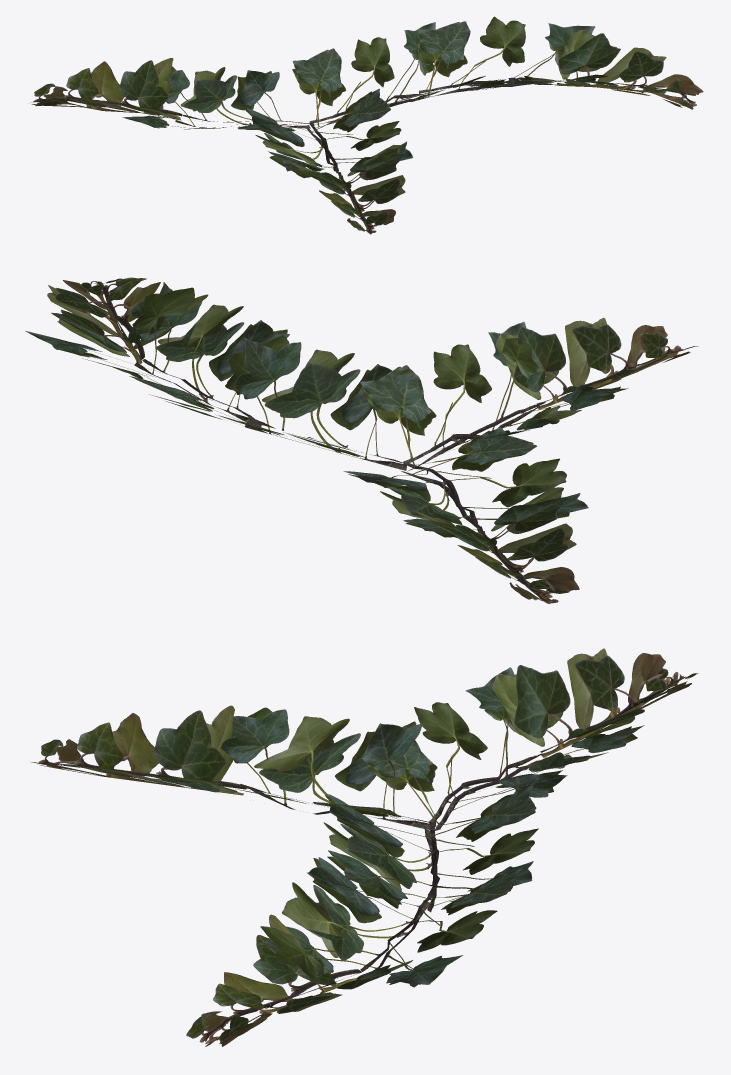
File: stumbletwine_06.fbx
3 renders of one model, top to bottom at view 1: azimuth 30°, elevation 25°; view 2: azimuth 150°, elevation 25°; view 3: azimuth 270°, elevation 25°, orthographic. The views are drawn at different scales.
Visible parts, largest first — view 1: stumbletwine_06; view 2: stumbletwine_06; view 3: stumbletwine_06.
Part boxes in pixels (<box>): stumbletwine_06: <box>31,16,703,234</box>; stumbletwine_06: <box>25,277,698,604</box>; stumbletwine_06: <box>31,648,698,1046</box>.
Size of the model in its own units: 63.53 by 84.07 by 7.11.
